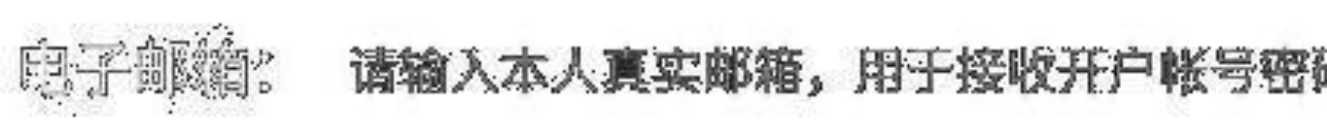EditText: (1, 1, 1326, 139)
